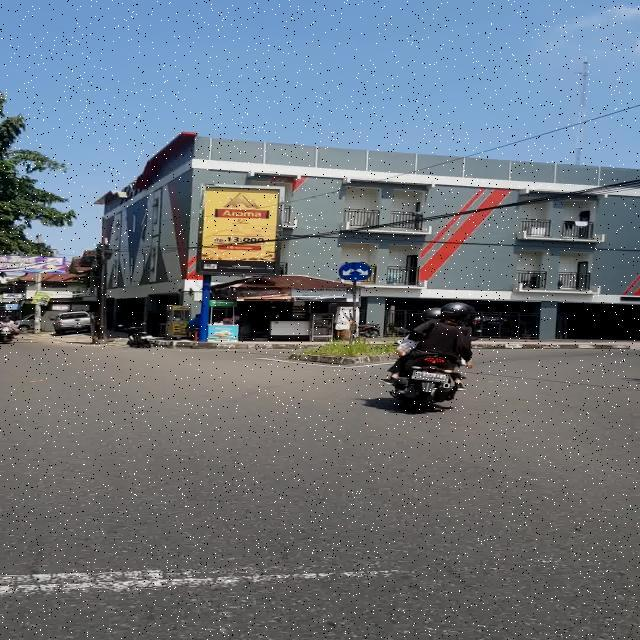Pilih Salah Satu Jalur: (338, 262, 372, 280)
